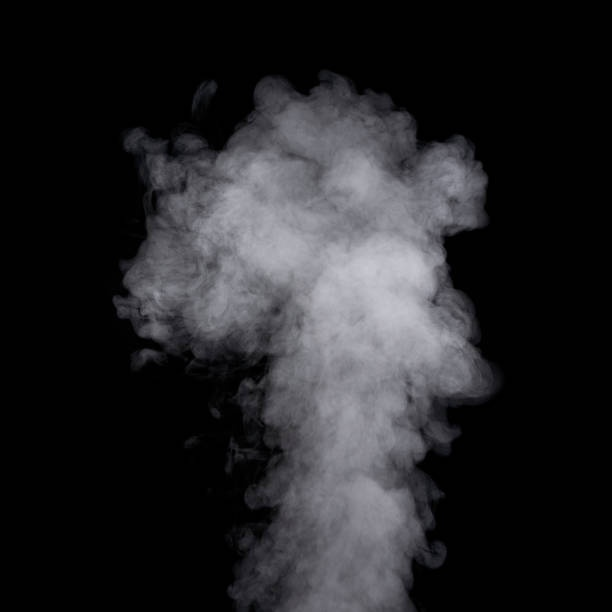smoke: (106, 69, 495, 612)
